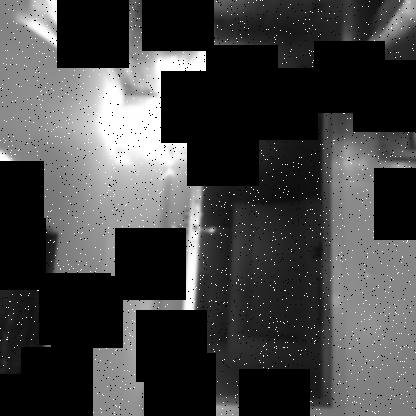Porte: (144, 19, 346, 416)
